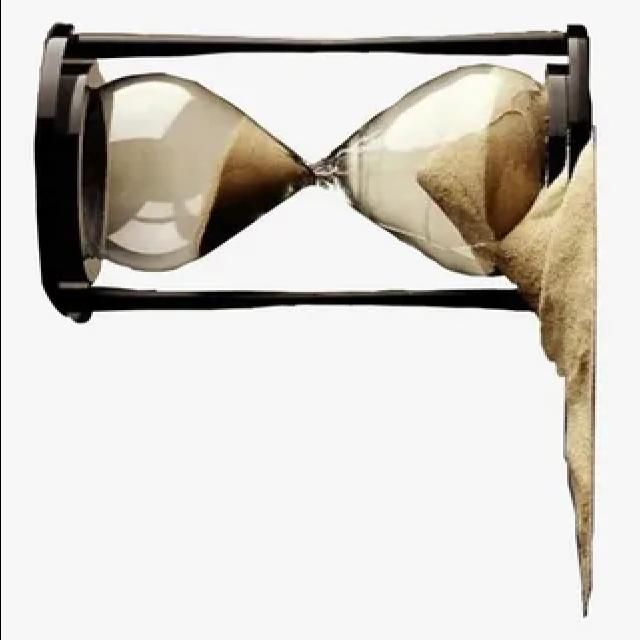clock: (24, 16, 604, 330)
